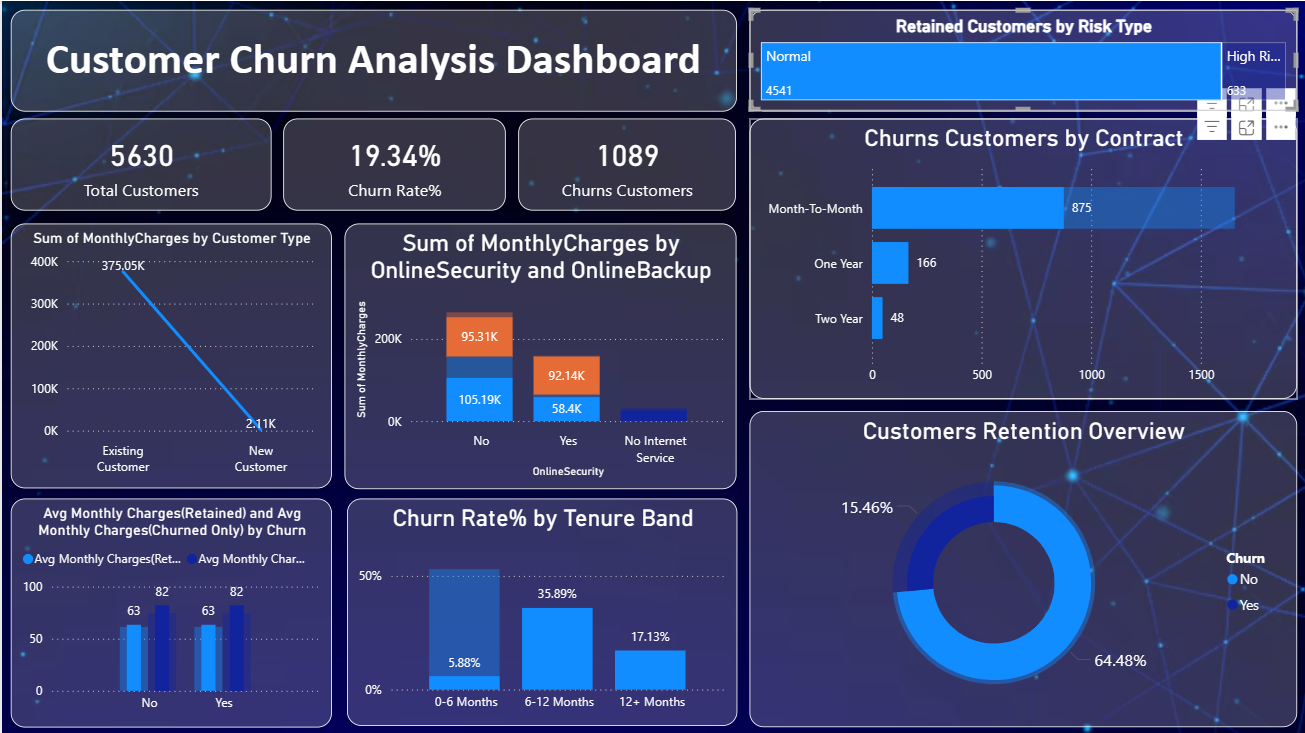

The page's visual inventory and layout, read from the dashboard file:
{"tool":"powerbi","page":{"name":"Page 1","canvas":[1280,720],"ordinal":0},"visuals":[{"type":"textbox","box":[8,8,712.5,99.7],"z":0},{"type":"treemap","fields":{"Values":["Calculated Measure.Retained Customers"],"Group":["WA_Fn-UseC_-Telco-Customer-Churn.Risk Type"]},"box":[733.5,8,537.2,99.7],"z":1000},{"type":"card","fields":{"Values":["Calculated Measure.Total Customers"]},"box":[8,115.8,255.7,90.1],"z":2000},{"type":"card","fields":{"Values":["Calculated Measure.Churn Rate%"]},"box":[276.7,115.8,218.7,90.1],"z":3000},{"type":"card","fields":{"Values":["Calculated Measure.Churns Customers"]},"box":[506.7,115.8,213.9,90.1],"z":4000},{"type":"donutChart","title":"Customers Retention Overview","fields":{"Y":["Calculated Measure.Total Customers"],"Category":["WA_Fn-UseC_-Telco-Customer-Churn.Churn"]},"box":[733.5,402.1,537.2,310.4],"z":5000},{"type":"barChart","fields":{"Category":["WA_Fn-UseC_-Telco-Customer-Churn.Contract"],"Y":["Calculated Measure.Churns Customers"]},"box":[733.5,115.8,537.2,275],"z":5001},{"type":"columnChart","fields":{"Category":["WA_Fn-UseC_-Telco-Customer-Churn.OnlineSecurity"],"Y":["Sum(WA_Fn-UseC_-Telco-Customer-Churn.MonthlyCharges)"],"Series":["WA_Fn-UseC_-Telco-Customer-Churn.OnlineBackup"]},"box":[336.2,218.7,384.4,260.6],"z":5002},{"type":"columnChart","fields":{"Y":["Calculated Measure.Churn Rate%"],"Category":["WA_Fn-UseC_-Telco-Customer-Churn.Tenure Band"]},"box":[338.3,488.3,383.3,223.3],"z":5003},{"type":"clusteredColumnChart","fields":{"Y":["Calculated Measure.Avg Monthly Charges(Retained)","Calculated Measure.Avg Monthly Charges(Churned Only)"],"Category":["WA_Fn-UseC_-Telco-Customer-Churn.Churn"]},"box":[8.6,488.3,315.3,224.5],"z":5004},{"type":"lineChart","fields":{"Category":["WA_Fn-UseC_-Telco-Customer-Churn.Customer Type"],"Y":["Sum(WA_Fn-UseC_-Telco-Customer-Churn.MonthlyCharges)"]},"box":[8.6,218.4,315.3,260.1],"z":5005}]}

Visuals, with their boxes in screenshot pixels (x1, y1, x2, y2), scaled from the page's 1280x720 canvas onto the 1305x733 screenshot:
textbox: locate(8, 8, 735, 110)
treemap - Calculated Measure.Retained Customers x WA_Fn-UseC_-Telco-Customer-Churn.Risk Type: locate(748, 8, 1296, 110)
card - Calculated Measure.Total Customers: locate(8, 118, 269, 210)
card - Calculated Measure.Churn Rate%: locate(282, 118, 505, 210)
card - Calculated Measure.Churns Customers: locate(517, 118, 735, 210)
"Customers Retention Overview" donutChart: locate(748, 409, 1296, 725)
barChart - WA_Fn-UseC_-Telco-Customer-Churn.Contract x Calculated Measure.Churns Customers: locate(748, 118, 1296, 398)
columnChart - WA_Fn-UseC_-Telco-Customer-Churn.OnlineSecurity x Sum(WA_Fn-UseC_-Telco-Customer-Churn.MonthlyCharges): locate(343, 223, 735, 488)
columnChart - Calculated Measure.Churn Rate% x WA_Fn-UseC_-Telco-Customer-Churn.Tenure Band: locate(345, 497, 736, 724)
clusteredColumnChart - Calculated Measure.Avg Monthly Charges(Retained) x Calculated Measure.Avg Monthly Charges(Churned Only): locate(9, 497, 330, 726)
lineChart - WA_Fn-UseC_-Telco-Customer-Churn.Customer Type x Sum(WA_Fn-UseC_-Telco-Customer-Churn.MonthlyCharges): locate(9, 222, 330, 487)
